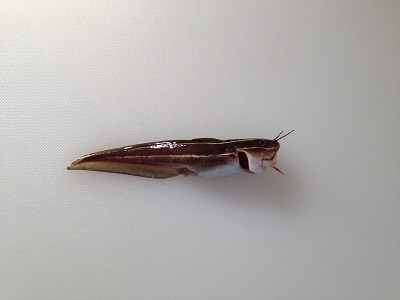gonzui: (62, 115, 310, 191)
